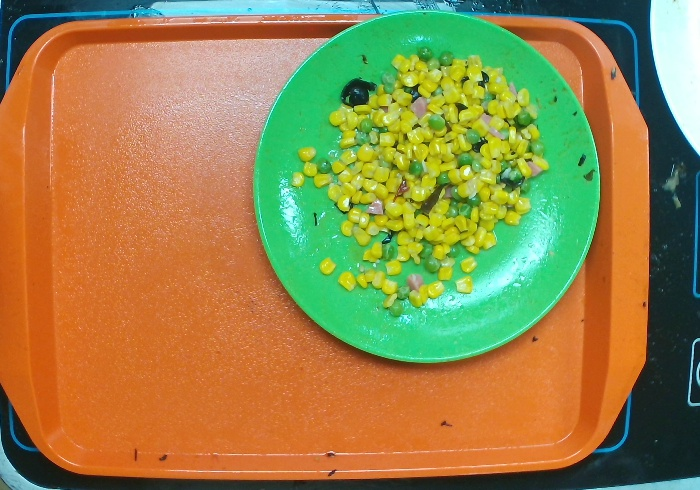HZYJPL-Lv_Se_Yuan_Pan: (250, 9, 601, 368)
